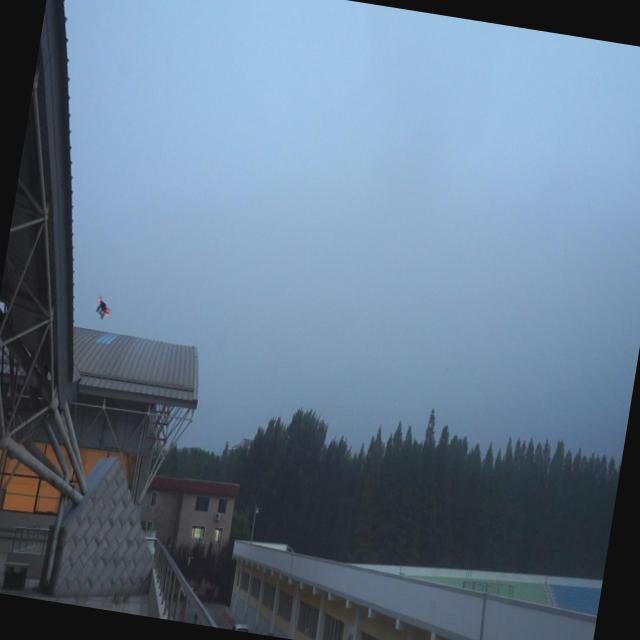drone: (90, 290, 114, 326)
